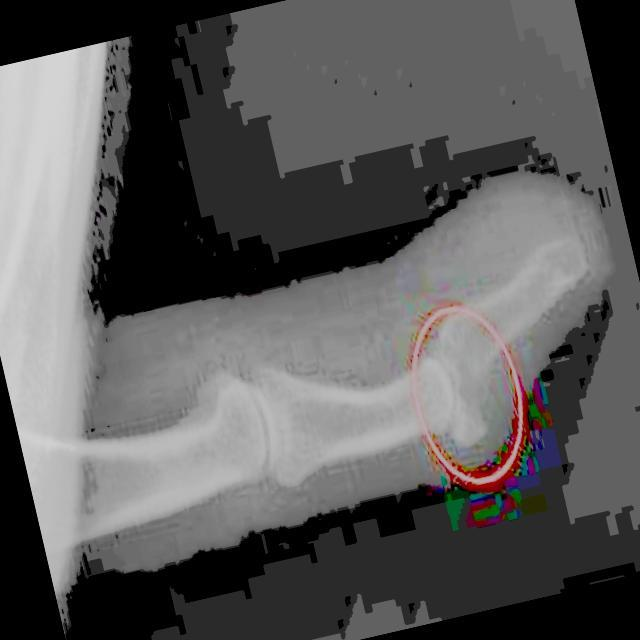Avlusion Fracture: (421, 354, 489, 449)
